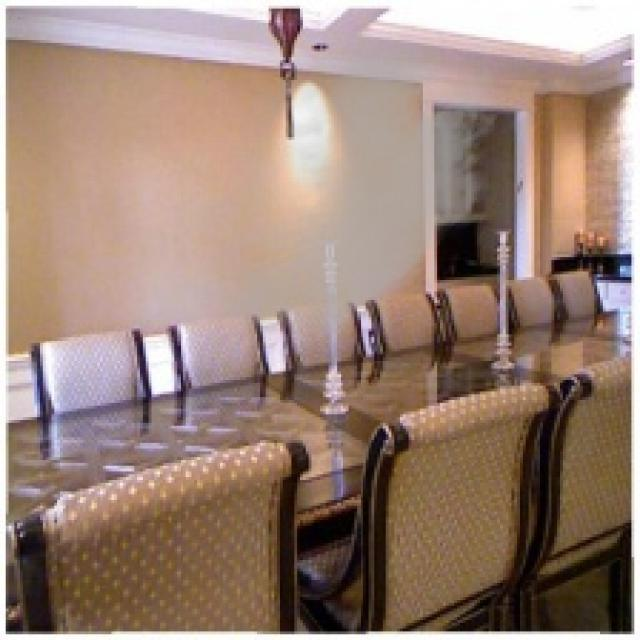Smoke: (134, 8, 512, 383)
